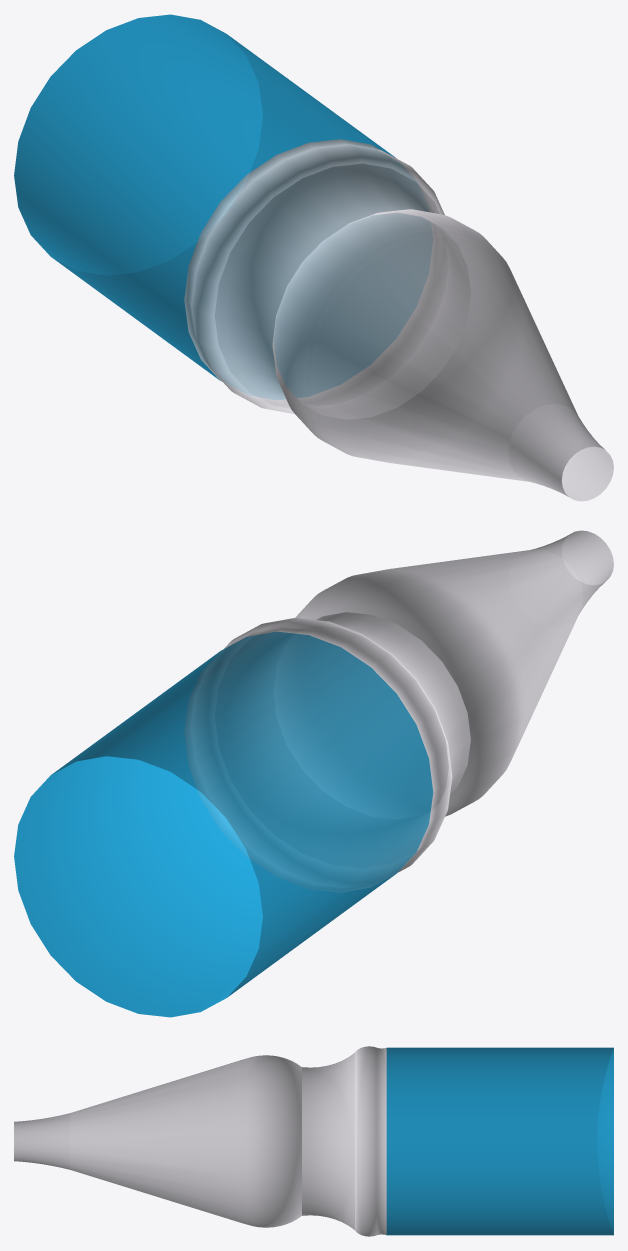
Rendered from model_align.obj.
3 renders of one model, top to bottom at view 1: azimuth 30°, elevation 25°; view 2: azimuth 150°, elevation 25°; view 3: azimuth 270°, elevation 25°, orthographic. The views are drawn at different scales.
Visible parts, largest first — view 1: mesh1_mesh1-geometry; view 2: mesh1_mesh1-geometry; view 3: mesh1_mesh1-geometry.
Part boxes in pixels (left/top/right/bottom): mesh1_mesh1-geometry: left=14, top=14, right=613, bottom=501; mesh1_mesh1-geometry: left=14, top=530, right=613, bottom=1017; mesh1_mesh1-geometry: left=14, top=1046, right=613, bottom=1236.
Size of the model in its own units: 0.0633 by 0.0617 by 0.1951.
